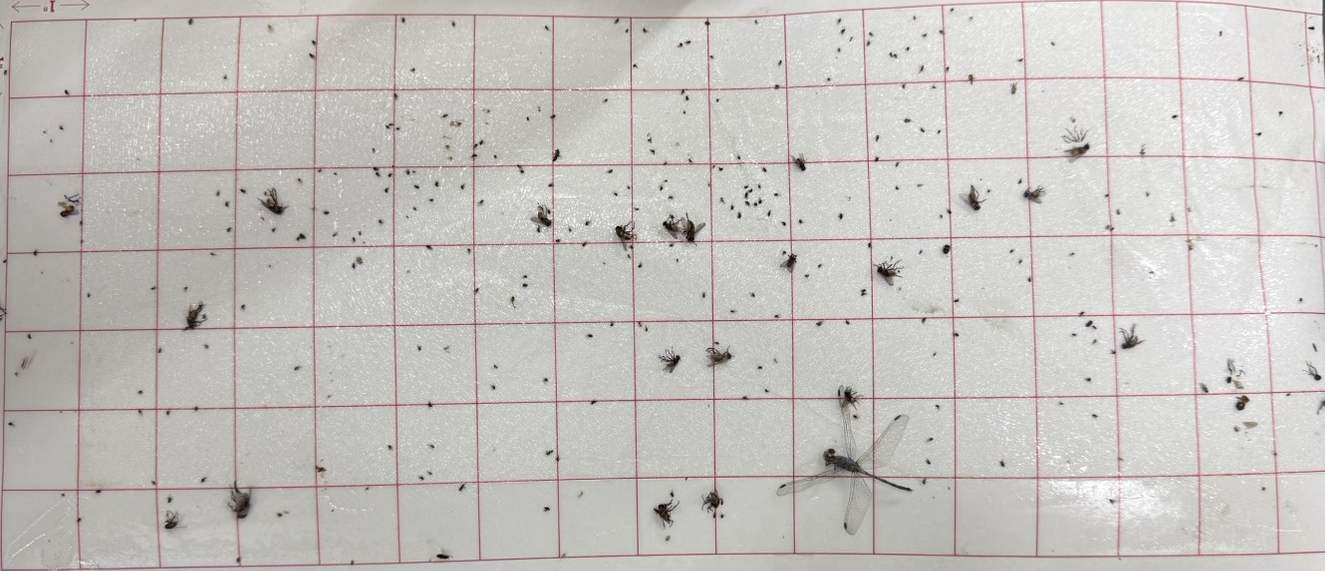fly: (1057, 127, 1093, 165), (223, 480, 254, 520), (613, 219, 643, 252), (872, 259, 906, 288), (651, 499, 682, 530), (257, 187, 288, 216), (180, 300, 209, 331), (1117, 321, 1146, 352), (956, 184, 986, 212), (682, 215, 709, 245), (53, 194, 83, 220), (655, 348, 682, 376), (836, 384, 863, 410), (705, 346, 733, 369), (530, 203, 556, 227), (661, 212, 683, 240), (699, 489, 724, 512), (1019, 185, 1047, 205), (778, 248, 800, 273), (159, 508, 182, 531), (790, 152, 809, 174)
test: (776, 389, 921, 551), (1232, 392, 1251, 414), (1305, 363, 1323, 382), (1197, 380, 1211, 395), (551, 148, 562, 163), (941, 243, 952, 256), (1009, 81, 1019, 95), (1317, 398, 1325, 415), (967, 71, 976, 86), (1083, 318, 1095, 329), (436, 552, 450, 561), (1224, 373, 1233, 386), (315, 464, 326, 474), (918, 63, 927, 75), (1310, 342, 1319, 354), (509, 296, 517, 308), (266, 23, 275, 33), (1092, 335, 1100, 346), (1104, 224, 1115, 232), (1284, 390, 1293, 399), (1084, 375, 1093, 384), (355, 256, 364, 265), (1168, 213, 1177, 222), (1070, 329, 1078, 339), (544, 448, 554, 456), (458, 482, 466, 492), (296, 233, 306, 241), (444, 143, 454, 151), (1091, 412, 1100, 420), (998, 459, 1006, 468), (924, 458, 933, 466), (860, 288, 868, 297), (308, 51, 316, 60), (581, 239, 589, 248), (887, 50, 895, 59), (628, 243, 636, 251), (1295, 295, 1303, 303), (1058, 399, 1066, 407), (543, 505, 551, 513), (815, 319, 823, 327), (837, 212, 845, 220), (166, 496, 174, 504), (187, 18, 195, 26), (450, 21, 458, 29), (543, 24, 551, 32), (766, 209, 774, 217), (1114, 208, 1122, 216), (1269, 449, 1278, 456), (383, 186, 390, 195), (385, 123, 394, 130), (903, 116, 912, 123), (742, 183, 751, 190), (1109, 497, 1116, 505), (1110, 348, 1118, 355), (1077, 309, 1085, 316), (953, 331, 961, 338), (589, 399, 597, 406), (843, 319, 851, 326), (748, 291, 756, 298), (780, 249, 788, 256), (946, 208, 953, 216), (917, 248, 924, 256), (1017, 177, 1024, 185), (386, 444, 394, 451), (428, 443, 436, 450), (418, 474, 425, 482), (7, 421, 15, 428), (26, 333, 33, 341), (149, 285, 157, 292), (293, 365, 301, 372), (473, 287, 481, 294), (32, 249, 39, 257), (351, 235, 359, 242), (372, 165, 380, 172), (400, 16, 407, 24), (478, 199, 485, 207), (549, 113, 557, 120), (536, 226, 543, 234), (613, 17, 620, 25), (606, 168, 614, 175), (636, 261, 644, 268), (667, 193, 674, 201), (703, 19, 710, 27), (865, 39, 872, 47), (848, 34, 855, 42), (873, 155, 880, 163), (1016, 56, 1024, 63), (719, 196, 726, 204), (744, 199, 751, 207), (1276, 110, 1284, 117), (1139, 149, 1147, 156), (586, 333, 595, 339), (276, 512, 285, 518), (425, 244, 434, 250), (442, 134, 451, 140), (773, 192, 782, 198), (1260, 485, 1267, 492), (852, 412, 859, 419), (934, 403, 941, 410), (921, 478, 928, 485), (772, 357, 779, 364), (763, 387, 770, 394), (742, 394, 749, 401), (608, 321, 615, 328), (636, 321, 643, 328), (866, 242, 873, 249), (817, 262, 824, 269), (938, 213, 945, 220), (427, 401, 434, 408), (200, 476, 207, 483), (95, 488, 102, 495), (239, 303, 246, 310), (203, 343, 210, 350), (492, 363, 499, 370), (209, 251, 216, 258), (226, 226, 233, 233), (297, 177, 304, 184), (331, 231, 338, 238), (387, 172, 394, 179), (414, 184, 421, 191), (412, 205, 419, 212), (459, 183, 466, 190), (64, 89, 71, 96), (311, 39, 318, 46), (392, 92, 399, 99), (456, 120, 463, 127), (492, 153, 499, 160), (687, 157, 694, 164), (1050, 40, 1057, 47), (736, 212, 743, 219), (729, 204, 736, 211), (1237, 75, 1244, 82), (921, 316, 927, 324), (926, 436, 934, 442), (663, 535, 671, 541), (701, 291, 707, 299), (803, 273, 811, 279), (1008, 248, 1016, 254), (364, 485, 370, 493), (75, 517, 83, 523), (317, 167, 323, 175), (434, 180, 440, 188), (3, 68, 9, 76), (521, 282, 529, 288), (650, 148, 656, 156), (677, 42, 685, 48), (840, 27, 846, 35), (937, 29, 945, 35), (918, 127, 926, 133), (874, 134, 880, 142), (916, 182, 924, 188), (1143, 191, 1151, 197), (1308, 25, 1316, 31), (1218, 30, 1224, 38), (668, 491, 675, 497), (712, 512, 718, 519), (555, 456, 561, 463), (774, 313, 781, 319), (644, 326, 650, 333), (953, 298, 960, 304), (986, 188, 993, 194), (1017, 258, 1023, 265), (426, 470, 433, 476), (234, 556, 241, 562), (150, 479, 157, 485), (86, 292, 92, 299), (183, 285, 189, 292), (157, 347, 163, 354), (137, 408, 144, 414), (165, 409, 172, 415), (491, 384, 497, 391), (2, 258, 9, 264), (41, 129, 48, 135), (215, 190, 221, 197), (240, 187, 247, 193), (224, 201, 230, 208), (323, 210, 330, 216), (378, 218, 384, 225), (351, 262, 357, 269), (428, 197, 435, 203), (410, 67, 416, 74), (525, 115, 531, 122), (516, 163, 523, 169), (548, 182, 554, 189), (624, 27, 630, 34), (642, 27, 649, 33), (602, 97, 609, 103), (485, 108, 491, 115), (567, 226, 573, 233), (634, 205, 640, 212), (543, 376, 549, 383), (658, 185, 664, 192), (826, 76, 832, 83), (836, 17, 843, 23), (921, 32, 928, 38), (905, 46, 911, 53), (901, 83, 907, 90), (895, 160, 901, 167), (797, 218, 804, 224), (780, 220, 787, 226), (748, 187, 755, 193), (743, 192, 750, 198), (752, 201, 759, 207), (1255, 131, 1262, 137), (757, 199, 765, 204), (1147, 269, 1155, 274), (1171, 114, 1179, 119), (932, 351, 938, 357), (719, 513, 725, 519), (730, 308, 736, 314), (1070, 251, 1076, 257), (416, 345, 422, 351), (58, 125, 64, 131), (271, 227, 277, 233), (357, 230, 363, 236), (371, 147, 377, 153), (375, 171, 381, 177), (412, 169, 418, 175), (404, 214, 410, 220), (222, 74, 228, 80), (442, 113, 448, 119), (479, 139, 485, 145), (473, 143, 479, 149), (471, 152, 477, 158), (519, 169, 525, 175), (466, 247, 472, 253), (260, 216, 266, 222), (448, 155, 454, 161), (585, 220, 591, 226), (613, 191, 619, 197), (626, 253, 632, 259), (647, 137, 653, 143), (736, 154, 742, 160), (685, 39, 691, 45), (680, 88, 686, 94), (773, 84, 779, 90), (949, 7, 955, 13), (893, 53, 899, 59), (936, 129, 942, 135), (894, 185, 900, 191), (756, 365, 763, 370), (714, 341, 721, 346), (1027, 276, 1032, 283), (193, 406, 200, 411), (137, 389, 144, 394), (632, 63, 639, 68), (778, 59, 783, 66), (912, 15, 917, 22), (930, 84, 937, 89), (1104, 193, 1111, 198), (521, 274, 529, 278), (684, 475, 689, 481), (349, 559, 354, 565), (333, 171, 339, 176), (406, 169, 411, 175), (395, 126, 401, 131), (626, 185, 632, 190), (669, 242, 674, 248), (664, 178, 670, 183), (762, 167, 768, 172), (718, 167, 724, 172), (754, 19, 759, 25), (709, 54, 715, 59), (715, 98, 721, 103), (685, 95, 690, 101), (868, 31, 873, 37), (969, 15, 974, 21), (756, 184, 762, 189), (555, 238, 560, 243), (675, 258, 680, 263), (662, 161, 667, 166), (682, 110, 687, 115), (836, 47, 841, 52), (60, 492, 66, 496), (48, 139, 54, 143), (79, 221, 84, 225), (946, 66, 950, 71)
